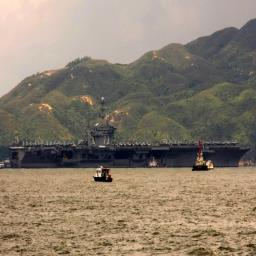Portanaves: (7, 89, 254, 173)
